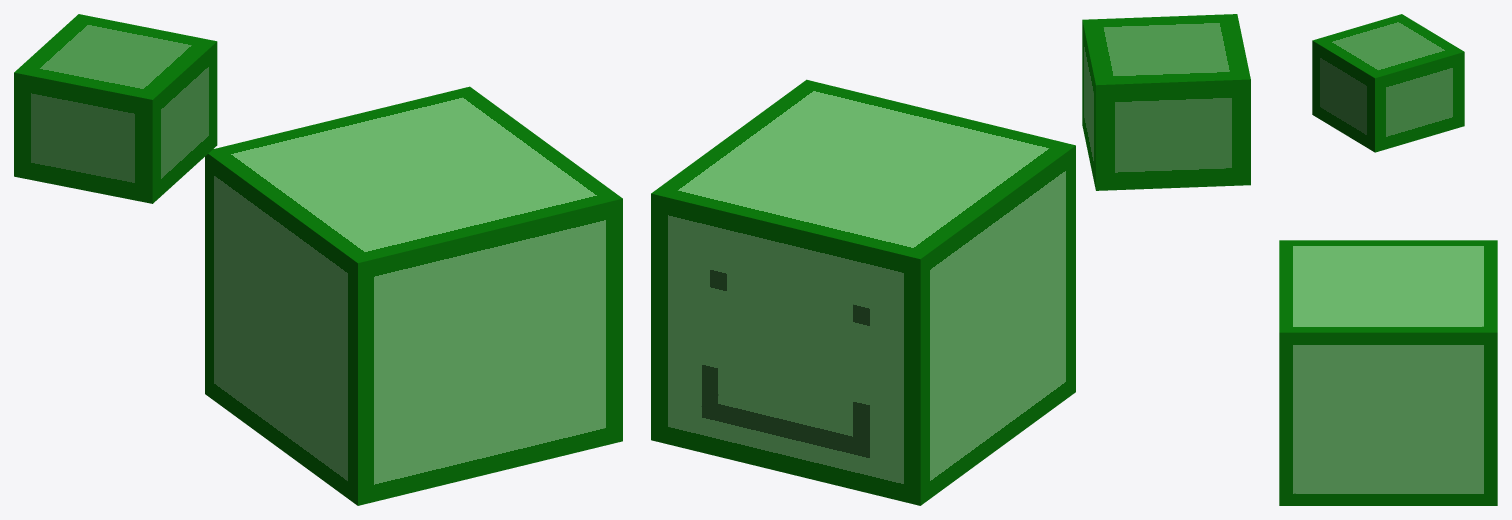
Rendered from planet_green.gltf.
3 views of the same model, side by side, from view 1: azimuth 30°, elevation 25°; view 2: azimuth 150°, elevation 25°; view 3: azimuth 270°, elevation 25° (orthographic). The views are drawn at different scales.
Parts seen in each view (by area): view 1: mesh (×2); view 2: mesh (×2); view 3: mesh (×2).
Part boxes in pixels (box(x1,y1,x2,y2)): mesh (×2): box(14, 14, 622, 505); mesh (×2): box(651, 14, 1250, 505); mesh (×2): box(1279, 14, 1497, 505).
Size of the model in its own units: 1.97 by 1.56 by 1.
1 material, 1 textured.
